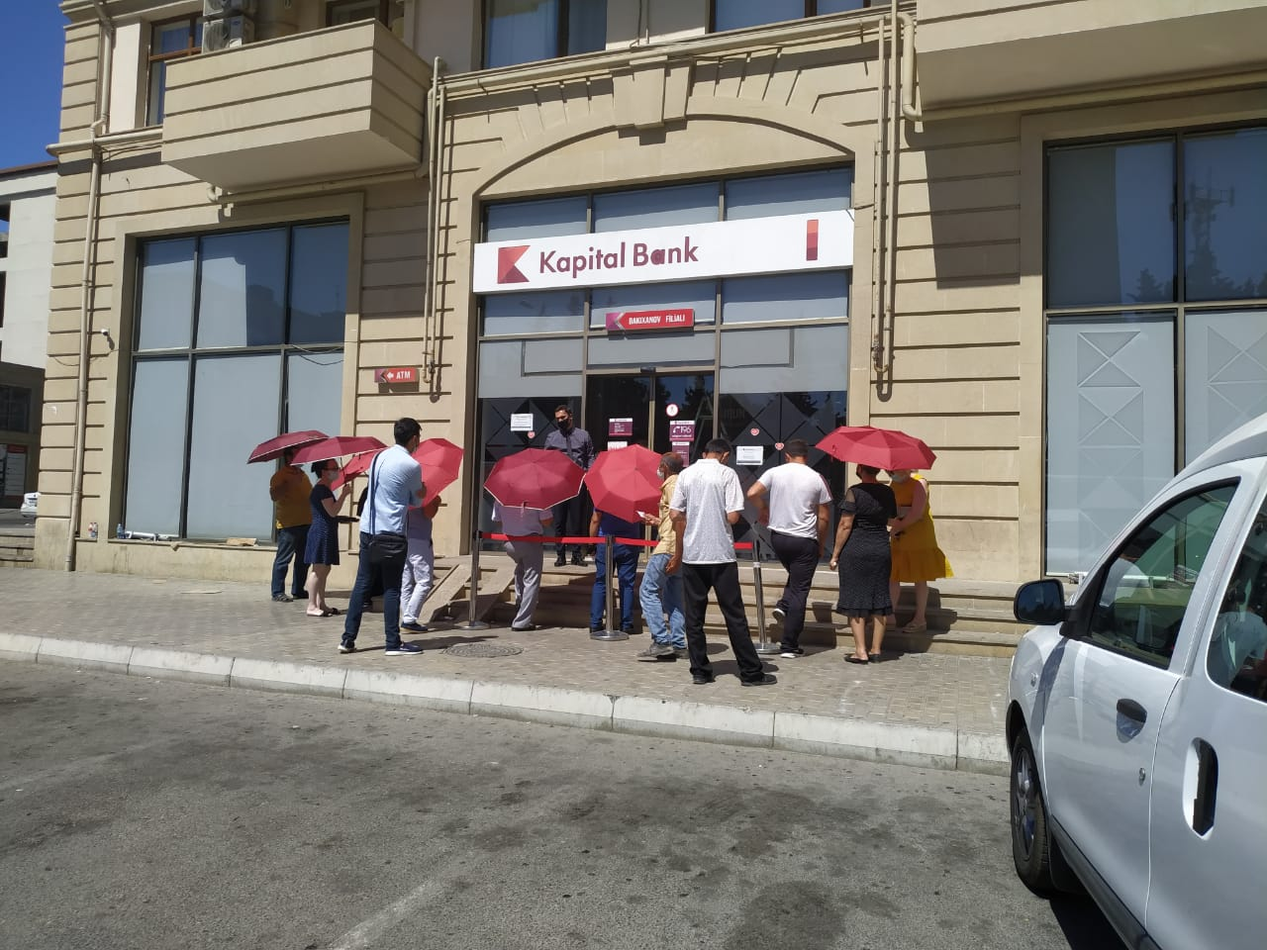Kapital Bank: (496, 243, 532, 285)
